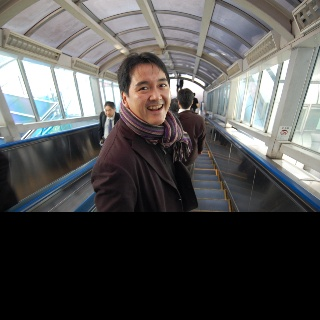without_mask: (125, 61, 172, 125), (104, 106, 115, 118)
